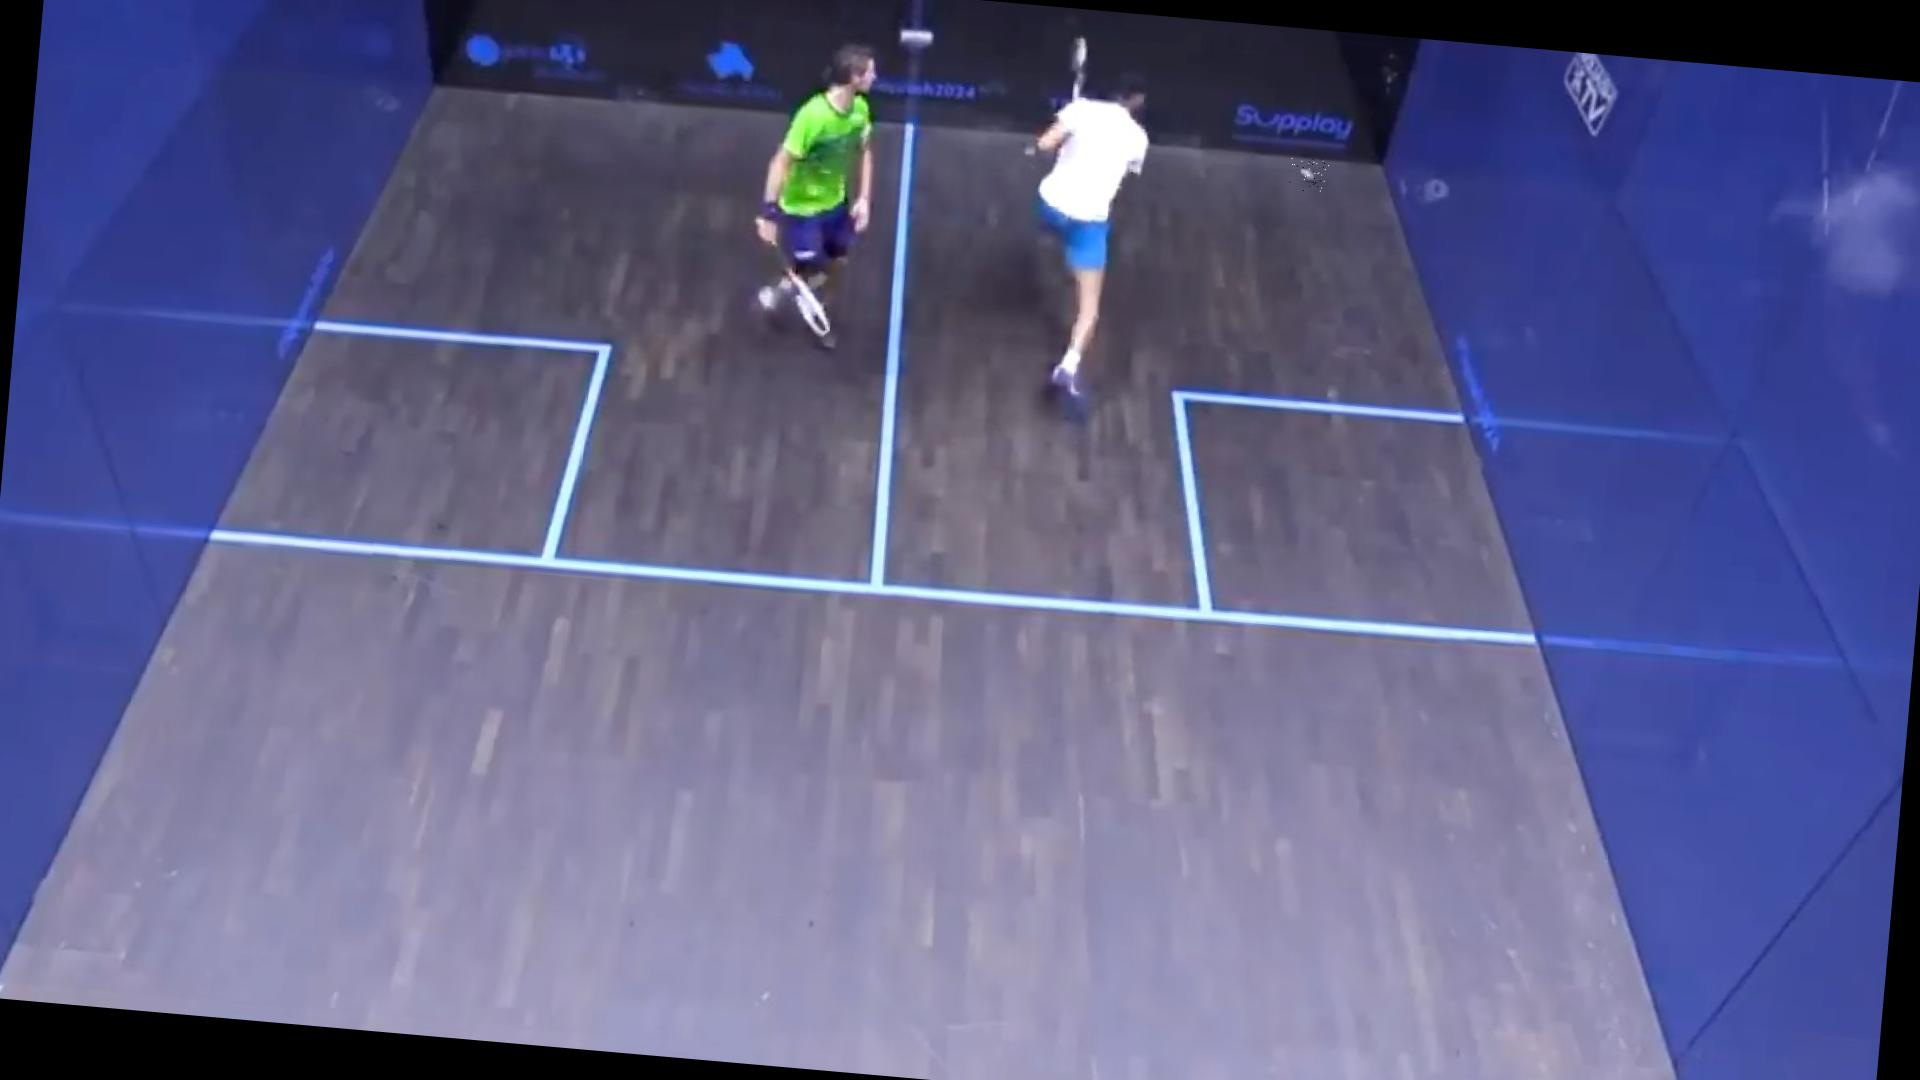Squash-Ball: (1288, 156, 1330, 192)
